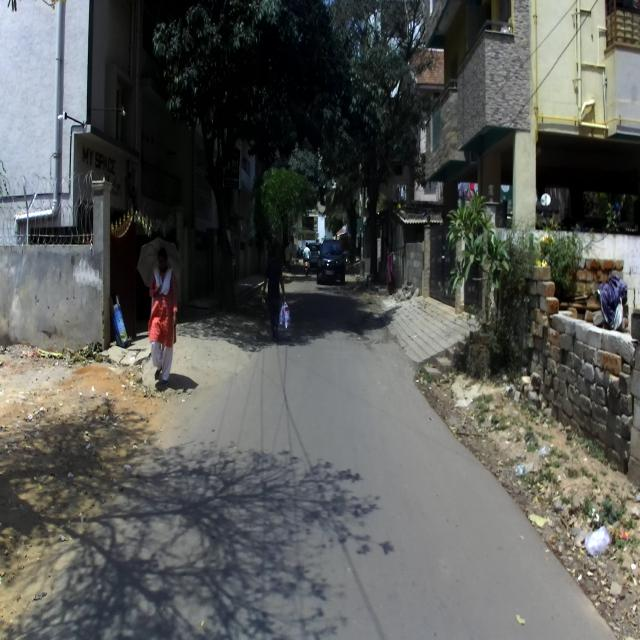person ahead at: (134, 234, 187, 391)
